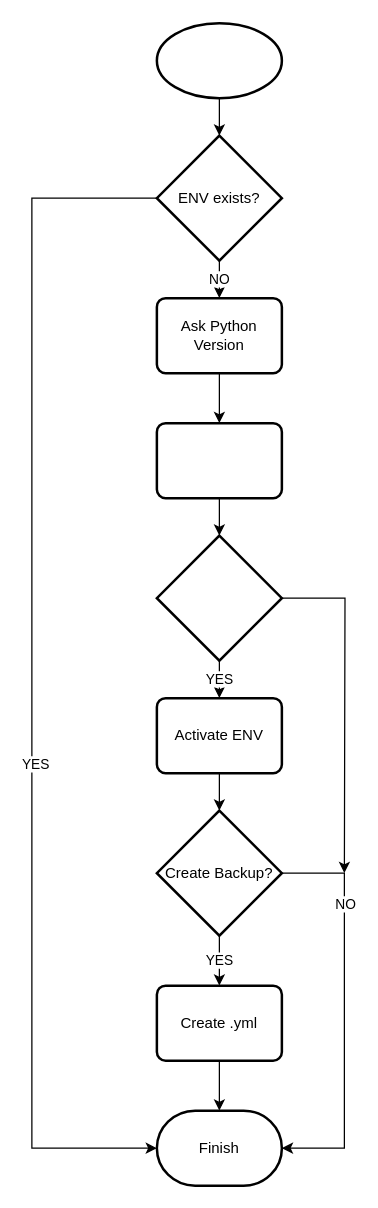
Image size: 378x1208. Some labels were removed from this diagram. Each missing label, with the centre of its shape:
"Activate ENV?" goes at [218,597].
"Ask ENV name" goes at [218,60].
"Ask Packages" goes at [218,460].
